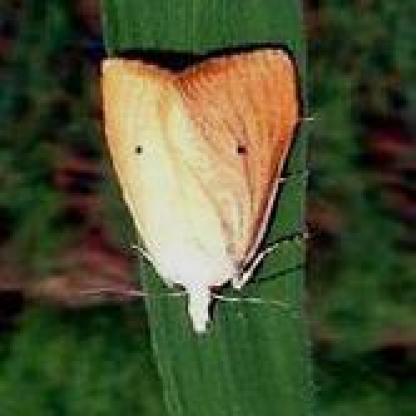stem-borer: (99, 40, 310, 340)
